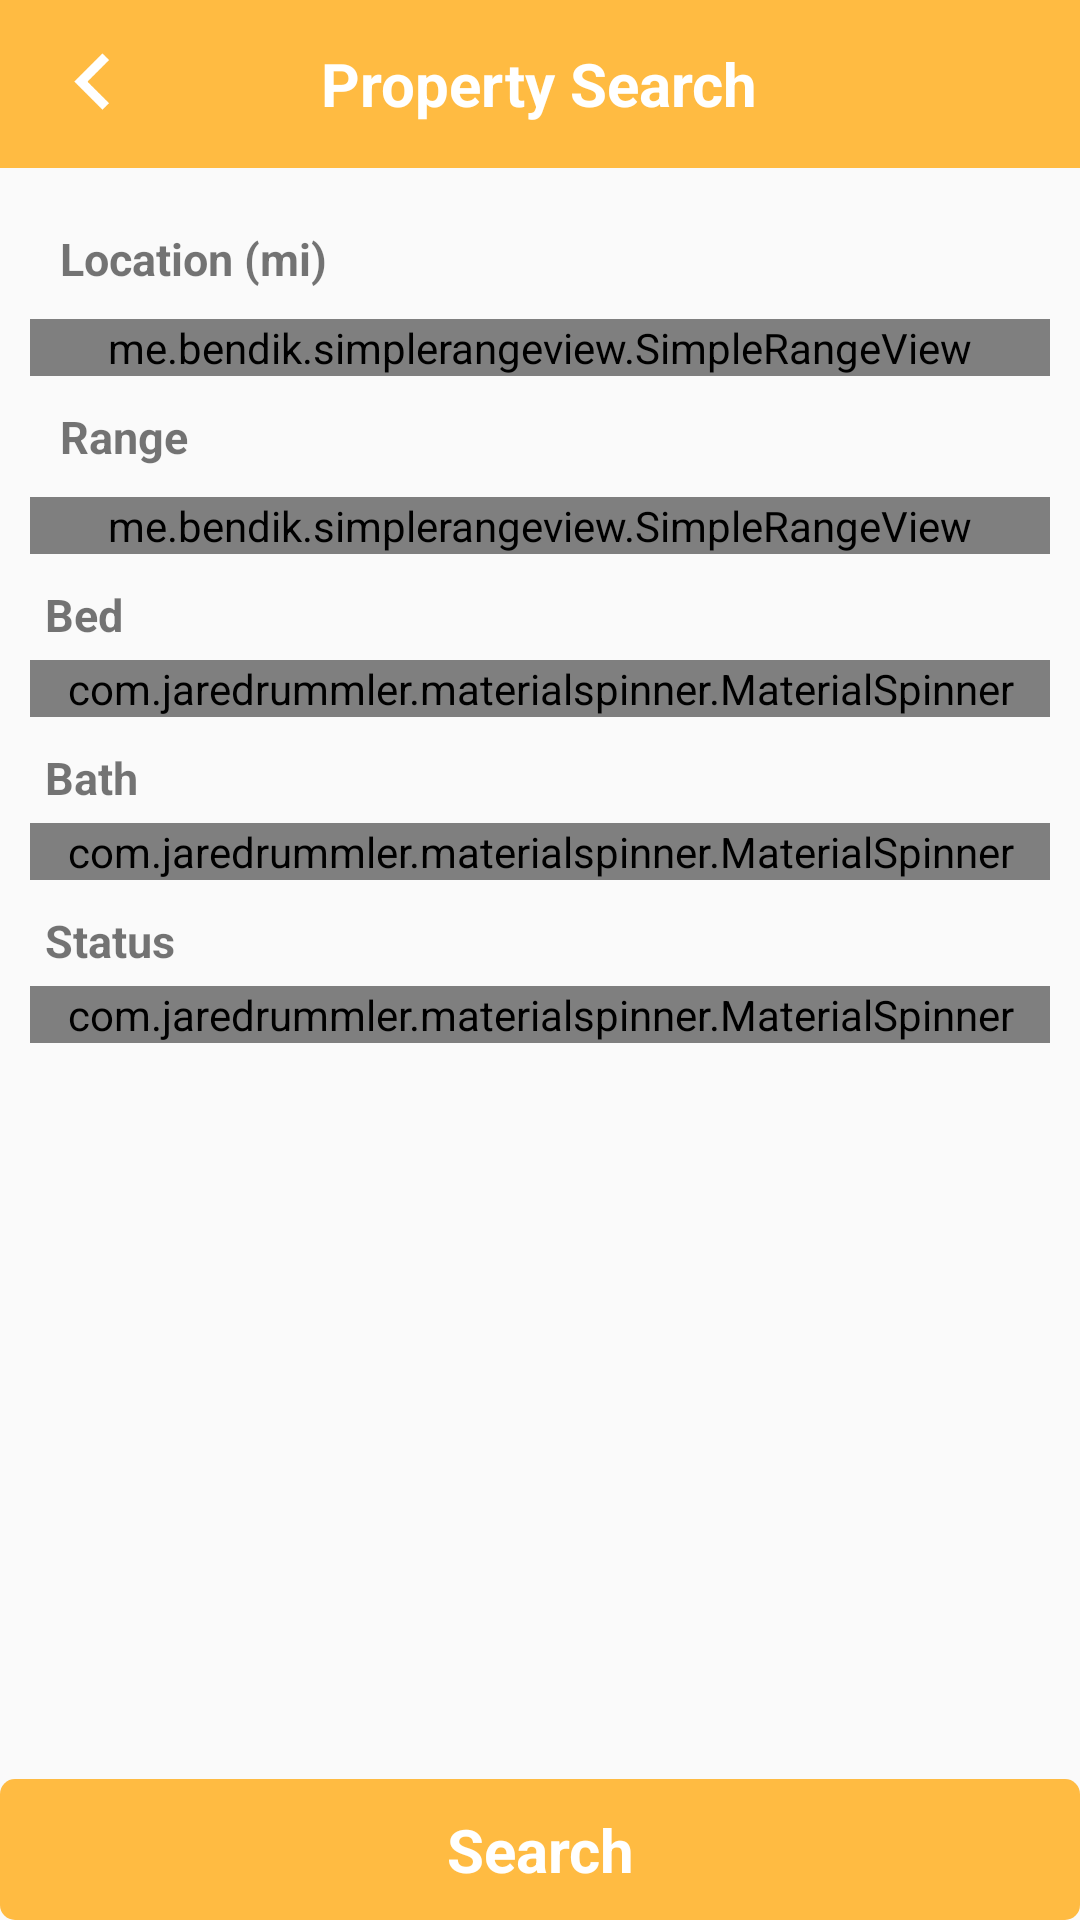

Icon bounding boxes for this 1080px x 1920px phone screenshot, format (x1, y1, x2, y2):
back: (74, 53, 109, 110)
